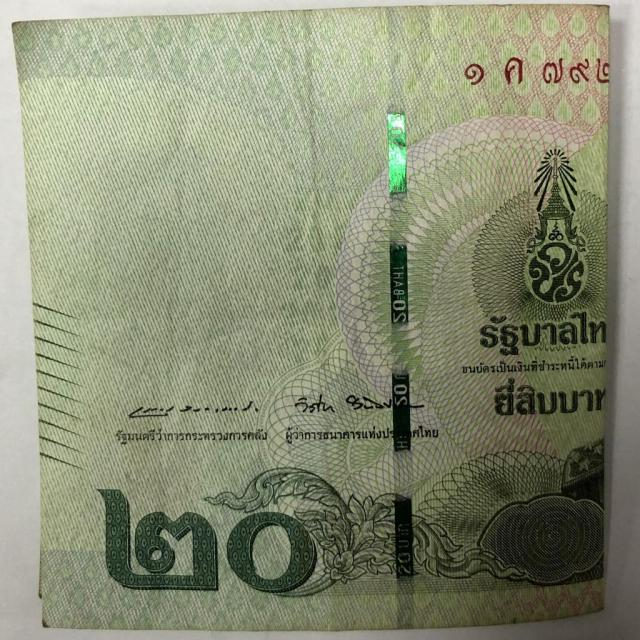THAI20: (13, 4, 610, 630)
